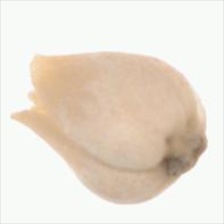L1: (8, 53, 54, 125), (162, 124, 209, 182)
L2: (10, 51, 210, 205)
